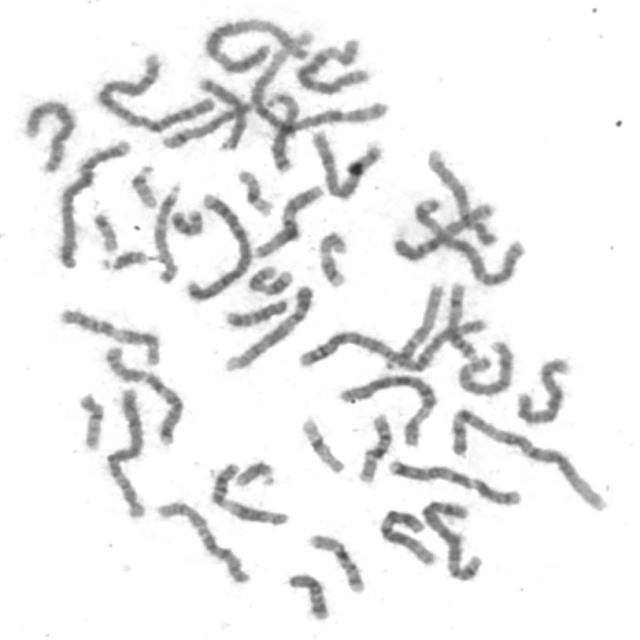A1: (444, 404, 610, 514), (243, 35, 385, 137)
A2: (294, 315, 491, 372), (93, 50, 218, 134)
A3: (408, 191, 526, 288), (199, 13, 315, 75)
B4: (50, 135, 133, 271), (180, 188, 253, 304)
B5: (100, 386, 150, 521), (416, 495, 484, 584)
C10: (151, 495, 254, 587), (386, 197, 496, 264)
C11: (54, 303, 164, 368), (204, 457, 294, 528)
C12: (248, 180, 326, 260), (374, 504, 438, 569)
C6: (334, 369, 438, 448), (291, 34, 369, 96)
C7: (98, 341, 186, 447), (383, 454, 525, 508)
C8: (18, 94, 80, 175), (454, 336, 516, 398)
C9: (220, 279, 316, 373), (421, 143, 502, 249)
D13: (194, 72, 248, 152), (265, 87, 304, 175)
D14: (158, 102, 261, 152), (442, 276, 482, 363)
D15: (380, 278, 448, 372), (149, 178, 184, 286)
E16: (302, 528, 368, 595), (353, 409, 395, 485)
E17: (313, 227, 351, 290), (242, 260, 296, 297)
E18: (220, 292, 297, 330), (282, 568, 332, 622)
F19: (295, 411, 348, 475), (232, 164, 276, 218)
F20: (74, 389, 106, 452), (166, 204, 206, 238)
G21: (231, 456, 278, 490), (95, 246, 151, 274)
G22: (126, 159, 160, 210), (86, 206, 120, 254)
X: (305, 124, 385, 201)
